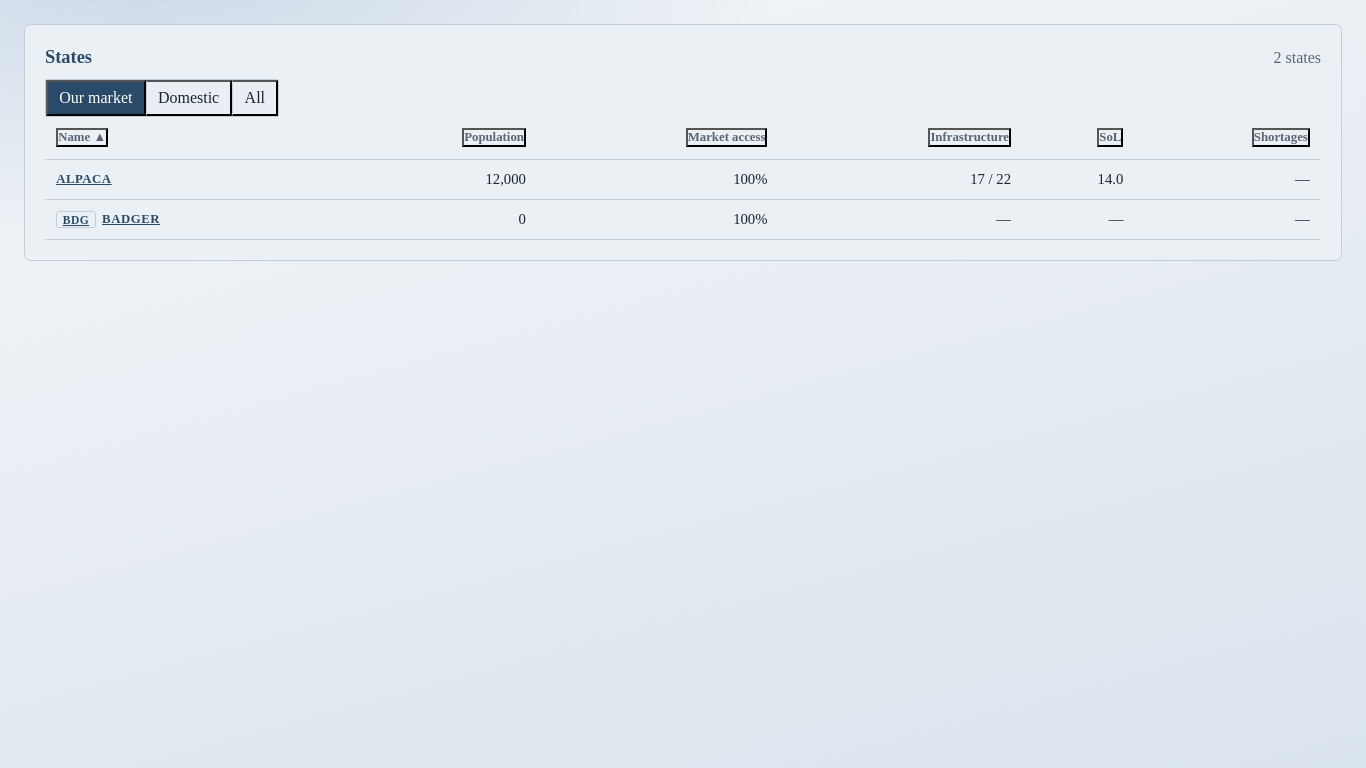
Test case: StatesPane › clicks a row and drills into the state heading
The image size is (1366, 768).
Click the link "Alpaca".
click(84, 179)  # box [56,172,112,187]
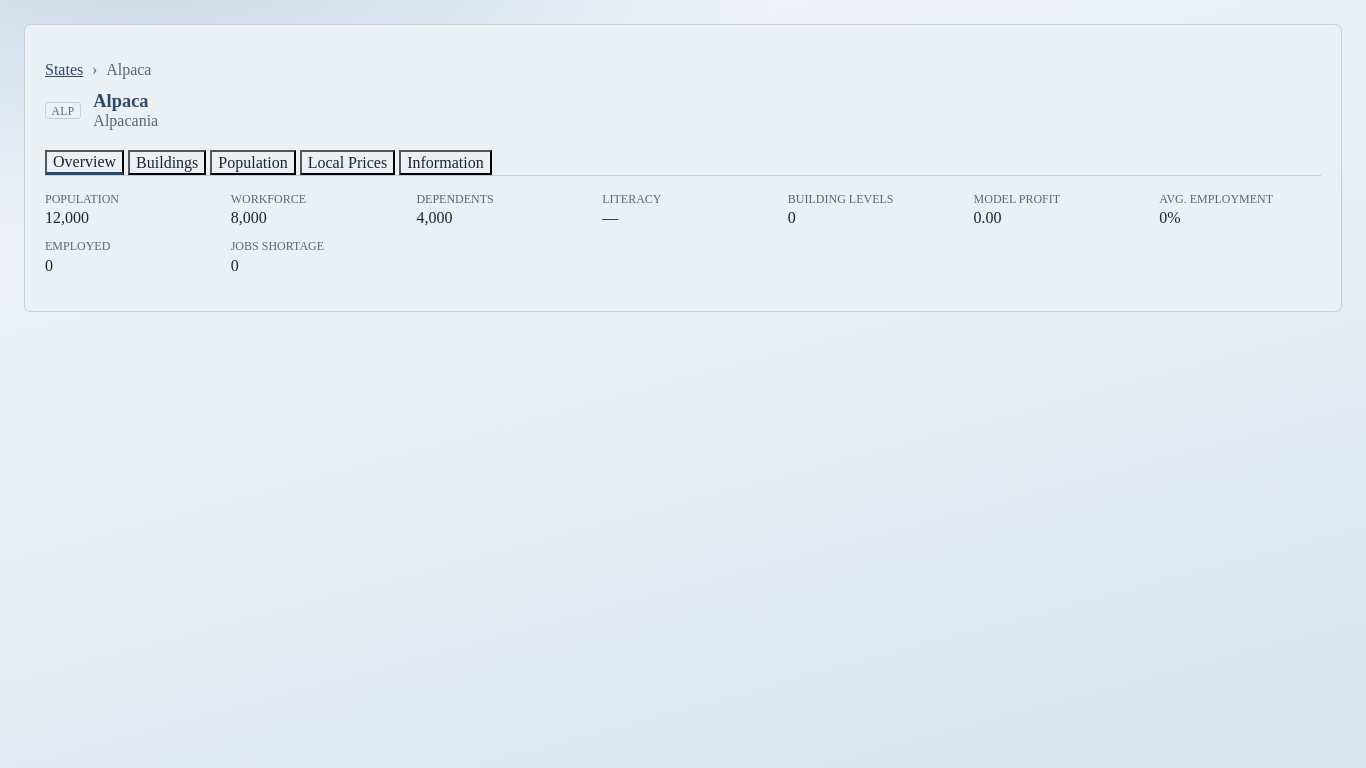
Now the heading "Alpaca" is shown, box [93,91,158,112]
